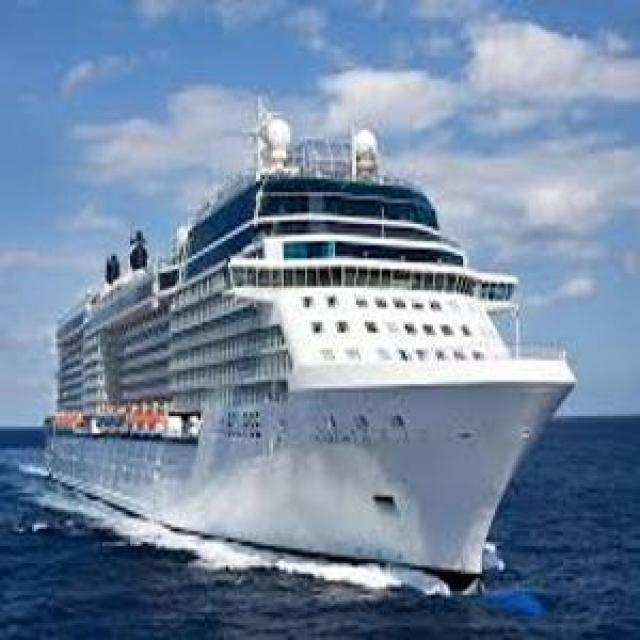passenger ship: (37, 130, 580, 586)
